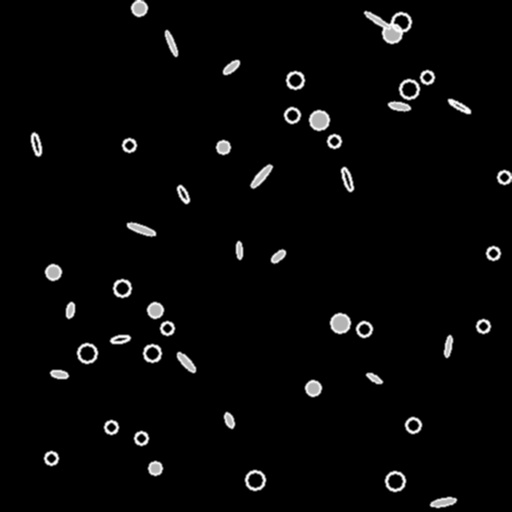pseudomonas: (249, 163, 273, 189), (364, 10, 390, 30), (127, 221, 155, 237), (176, 351, 196, 373), (163, 30, 179, 56), (447, 98, 471, 114), (340, 166, 354, 192), (222, 59, 240, 75), (30, 132, 42, 156), (430, 497, 456, 507), (176, 185, 190, 203), (270, 249, 286, 263), (388, 101, 410, 111), (366, 372, 382, 384), (111, 334, 129, 344), (224, 412, 234, 428), (65, 302, 75, 318), (444, 336, 452, 356), (51, 370, 67, 378), (236, 242, 242, 258)
synechocystis: (400, 80, 418, 98), (383, 24, 401, 42), (331, 314, 349, 332), (78, 344, 96, 362), (386, 472, 404, 490), (246, 471, 264, 489), (392, 13, 410, 31), (310, 111, 328, 129), (144, 345, 160, 361), (114, 280, 130, 296), (287, 72, 303, 88), (46, 265, 60, 279), (357, 322, 371, 336), (148, 303, 162, 317), (132, 1, 146, 15), (406, 418, 420, 432), (306, 381, 320, 395), (285, 108, 299, 122), (328, 135, 340, 147), (105, 421, 117, 433), (217, 141, 229, 153), (498, 171, 510, 183), (161, 322, 173, 334), (421, 71, 433, 83), (477, 320, 489, 332), (45, 452, 57, 464), (487, 247, 499, 259), (149, 462, 161, 474), (123, 139, 135, 151), (135, 432, 147, 444)
